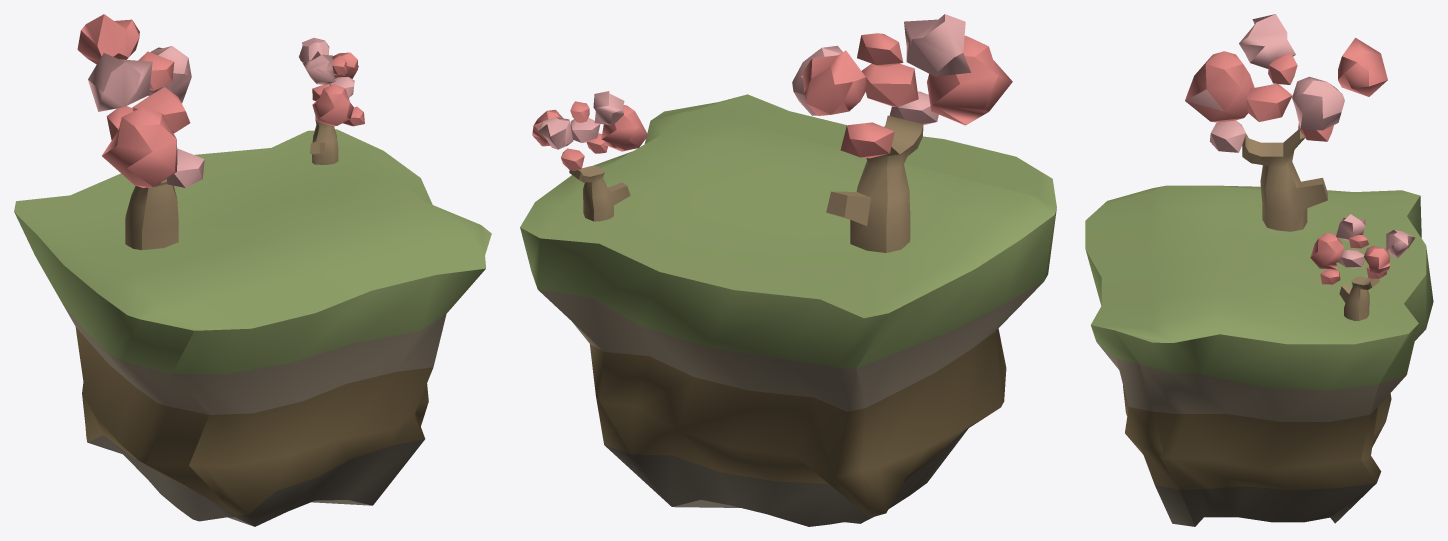
The model's file is ground1.fbx.
3 views of the same model, side by side, from view 1: azimuth 30°, elevation 25°; view 2: azimuth 150°, elevation 25°; view 3: azimuth 270°, elevation 25° (orthographic). The views are drawn at different scales.
Parts seen in each view (by area): view 1: pCube1, pCylinder5, pCube2, pCylinder8, pCylinder7, polySurface6, pCylinder3, pCylinder6, polySurface28, pCylinder1, pCylinder2, polySurface2; view 2: pCube1, pCube2, pCylinder5, pCylinder8, pCylinder7, pCylinder3, polySurface28, pCylinder4, polySurface6, pCylinder2, pCylinder1, polySurface2 (+2 smaller); view 3: pCube1, pCube2, pCylinder5, pCylinder6, pCylinder7, pCylinder8, pCylinder3, polySurface28, pCylinder1, polySurface6, pCylinder2, polySurface7 (+2 smaller).
Part boxes in pixels (<box>): pCube1: <box>14,129,491,526</box>; pCylinder5: <box>102,107,177,187</box>; pCube2: <box>125,179,178,250</box>; pCylinder8: <box>88,53,152,111</box>; pCylinder7: <box>77,14,139,64</box>; polySurface6: <box>312,84,353,126</box>; pCylinder3: <box>132,87,190,133</box>; pCylinder6: <box>148,46,191,102</box>; polySurface28: <box>310,116,338,164</box>; pCylinder1: <box>166,149,204,187</box>; pCylinder2: <box>138,51,174,90</box>; polySurface2: <box>302,54,335,84</box>; pCube1: <box>520,94,1056,526</box>; pCube2: <box>826,115,923,252</box>; pCylinder5: <box>927,35,1012,125</box>; pCylinder8: <box>904,14,970,76</box>; pCylinder7: <box>802,50,866,115</box>; pCylinder3: <box>861,63,918,106</box>; polySurface28: <box>569,166,630,221</box>; pCylinder4: <box>840,122,894,158</box>; polySurface6: <box>601,105,648,151</box>; pCylinder2: <box>857,33,903,67</box>; pCylinder1: <box>889,91,938,125</box>; polySurface2: <box>593,91,624,125</box>; pCube1: <box>1085,185,1433,526</box>; pCube2: <box>1242,130,1327,231</box>; pCylinder5: <box>1185,51,1254,122</box>; pCylinder6: <box>1292,76,1344,130</box>; pCylinder7: <box>1338,37,1387,96</box>; pCylinder8: <box>1239,14,1295,68</box>; pCylinder3: <box>1247,84,1292,121</box>; polySurface28: <box>1339,276,1379,320</box>; pCylinder1: <box>1209,120,1245,152</box>; polySurface6: <box>1310,233,1344,270</box>; pCylinder2: <box>1268,52,1297,84</box>; polySurface7: <box>1364,246,1390,273</box>.
Size of the model in its own units: 8.19 by 9.82 by 7.44.
